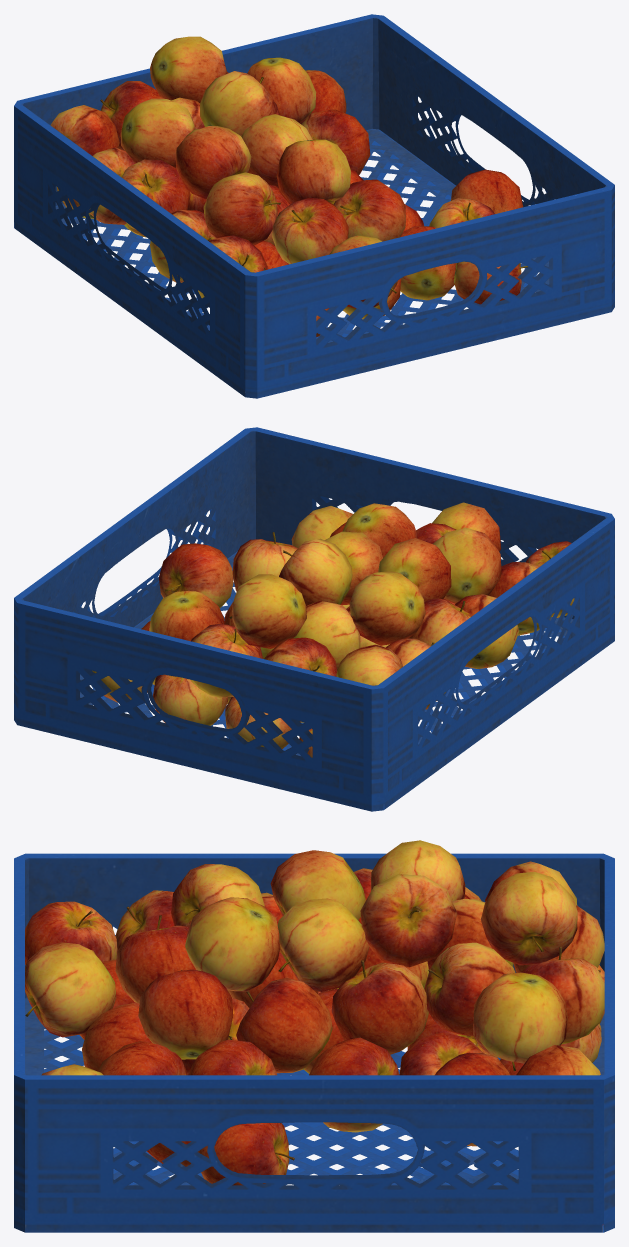
Rendered from Prop_Apple_Crate.fbx.
3 renders of one model, top to bottom at view 1: azimuth 30°, elevation 25°; view 2: azimuth 150°, elevation 25°; view 3: azimuth 270°, elevation 25°, orthographic. The views are drawn at different scales.
Visible parts, largest first — view 1: Box_Blue, Apple; view 2: Box_Blue, Apple; view 3: Apple, Box_Blue.
Part boxes in pixels (x1,y1,x2,y2): Box_Blue: (14,14,614,398); Apple: (50,36,527,336); Box_Blue: (14,427,614,811); Apple: (92,502,574,757); Apple: (25,840,604,1185); Box_Blue: (14,853,614,1232).
Bounding box in the file's own units: 28.84 × 13.03 × 32.42.
